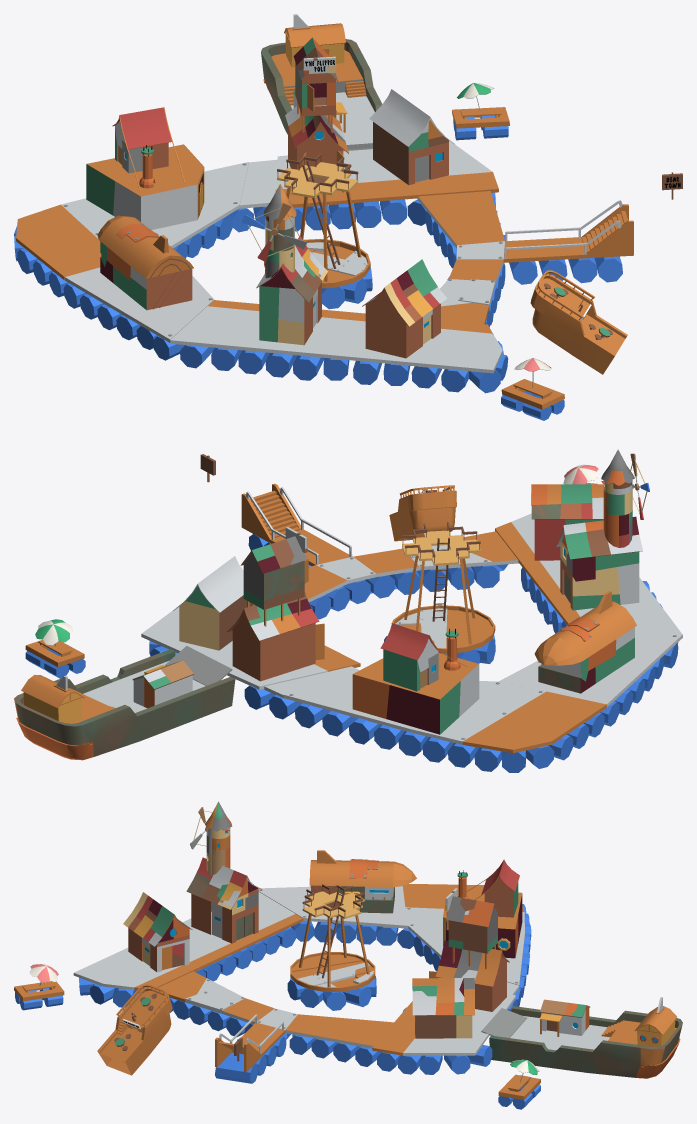
File: Neighborhood_BearTown_02.fbx
3 renders of one model, top to bottom at view 1: azimuth 30°, elevation 25°; view 2: azimuth 150°, elevation 25°; view 3: azimuth 270°, elevation 25°, orthographic. The views are drawn at different scales.
Parts seen in each view (by area): view 1: polySurface300, pCube445, polySurface230, pCube353, polySurface242, polySurface226, pCube380, polySurface278, polySurface240, polySurface301, polySurface303, polySurface304 (+5 smaller); view 2: polySurface300, polySurface301, polySurface242, pCube445, polySurface230, pCube353, pCube380, polySurface240, polySurface226, polySurface278, polySurface304, polySurface296 (+16 smaller); view 3: polySurface300, polySurface301, polySurface230, polySurface242, pCube380, pCube353, polySurface278, polySurface240, polySurface226, pCube445, polySurface303, polySurface302 (+3 smaller).
Part boxes in pixels (bbox=[...]): polySurface300: bbox=[16, 140, 633, 373]; pCube445: bbox=[86, 107, 204, 229]; polySurface230: bbox=[256, 184, 327, 345]; pCube353: bbox=[97, 215, 193, 310]; polySurface242: bbox=[285, 37, 348, 192]; polySurface226: bbox=[362, 259, 446, 358]; pCube380: bbox=[264, 153, 370, 288]; polySurface278: bbox=[530, 270, 627, 374]; polySurface240: bbox=[369, 89, 454, 184]; polySurface301: bbox=[261, 39, 382, 151]; polySurface303: bbox=[501, 358, 564, 420]; polySurface304: bbox=[452, 82, 509, 140]; polySurface300: bbox=[141, 483, 682, 753]; polySurface301: bbox=[14, 646, 235, 760]; polySurface242: bbox=[227, 527, 324, 681]; pCube445: bbox=[352, 623, 479, 734]; polySurface230: bbox=[556, 449, 642, 610]; pCube353: bbox=[534, 591, 636, 693]; pCube380: bbox=[390, 522, 495, 654]; polySurface240: bbox=[173, 556, 253, 650]; polySurface226: bbox=[531, 484, 603, 560]; polySurface278: bbox=[389, 485, 456, 541]; polySurface304: bbox=[25, 619, 85, 678]; polySurface296: bbox=[21, 674, 84, 723]; polySurface300: bbox=[73, 883, 524, 1072]; polySurface301: bbox=[481, 1006, 682, 1078]; polySurface230: bbox=[186, 801, 261, 943]; polySurface242: bbox=[429, 888, 509, 1011]; pCube380: bbox=[290, 884, 375, 991]; pCube353: bbox=[309, 850, 416, 913]; polySurface278: bbox=[97, 984, 172, 1075]; polySurface240: bbox=[412, 978, 474, 1038]; polySurface226: bbox=[123, 892, 192, 972]; pCube445: bbox=[443, 859, 522, 958]; polySurface303: bbox=[14, 964, 64, 1010]; polySurface302: bbox=[539, 999, 590, 1036].
Bounding box in the file's own units: 4476 × 1675 × 6180.
